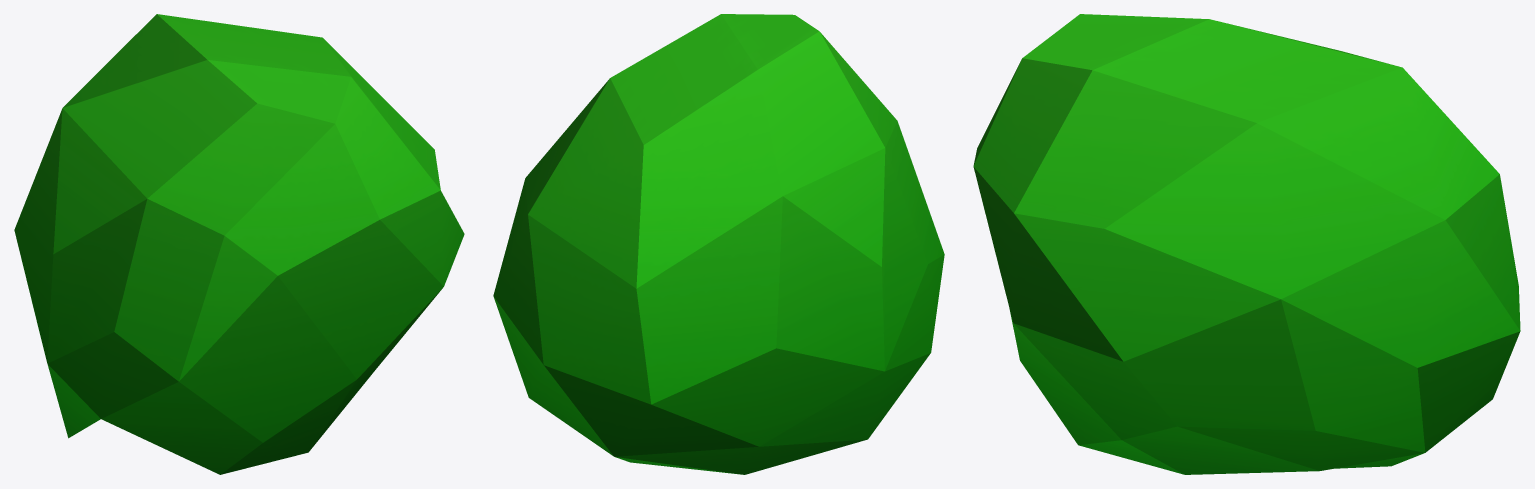
Rendered from FBX_Bush.fbx.
3 renders of one model, left to right at view 1: azimuth 30°, elevation 25°; view 2: azimuth 150°, elevation 25°; view 3: azimuth 270°, elevation 25°, orthographic. The views are drawn at different scales.
Parts seen in each view (by area): view 1: M_Bush; view 2: M_Bush; view 3: M_Bush.
Part boxes in pixels (left/top/right/bottom): M_Bush: left=14, top=14, right=464, bottom=474; M_Bush: left=493, top=14, right=944, bottom=474; M_Bush: left=973, top=14, right=1520, bottom=474.
Bounding box in the file's own units: 0.4471 × 0.4373 × 0.509.
